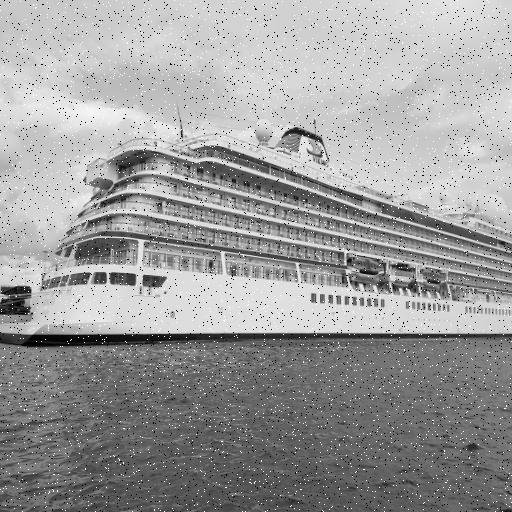cruises: (1, 117, 512, 352)
